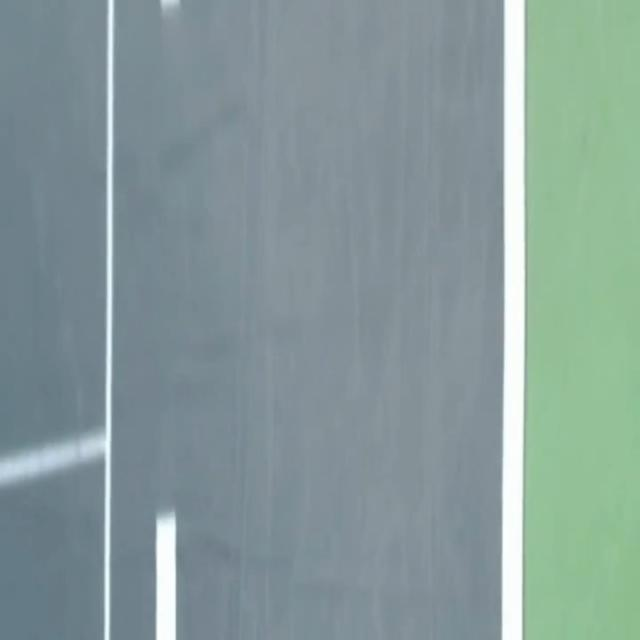center: (156, 511, 176, 639), (160, 0, 180, 9)
right: (501, 0, 524, 639)
